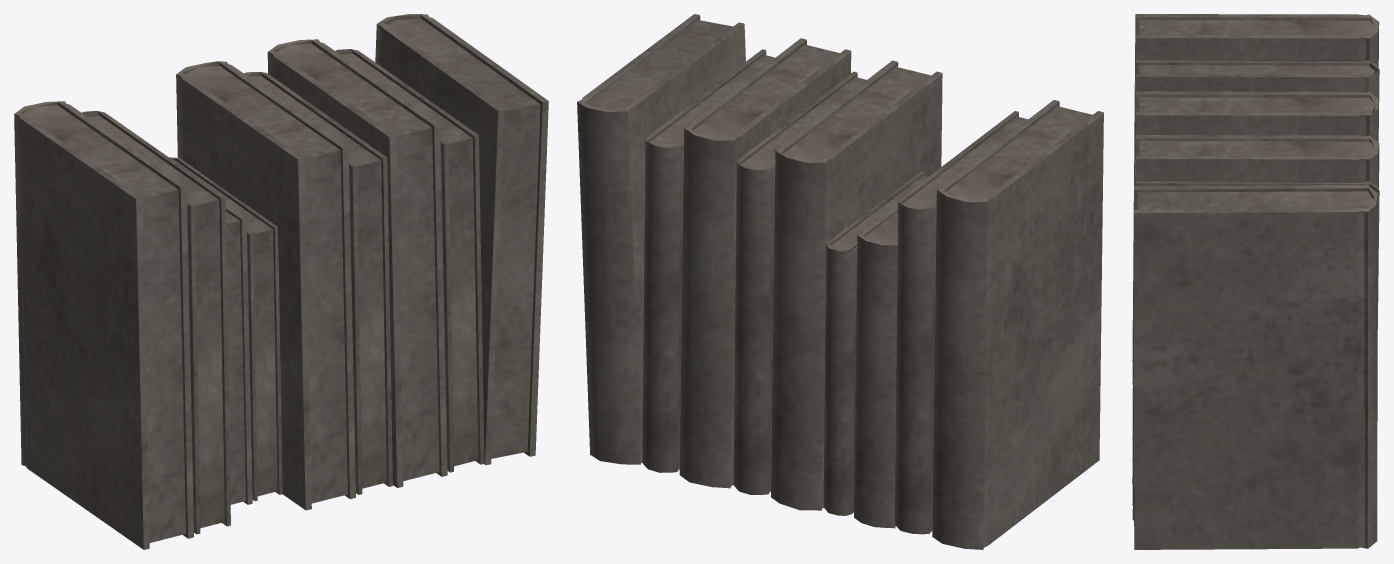
The model's file is SM_Books_A.fbx.
3 renders of one model, left to right at view 1: azimuth 30°, elevation 25°; view 2: azimuth 150°, elevation 25°; view 3: azimuth 270°, elevation 25°, orthographic. The views are drawn at different scales.
Parts seen in each view (by area): view 1: SM_Books_A_LOD0; view 2: SM_Books_A_LOD0; view 3: SM_Books_A_LOD0.
Boxes of the visible parts, x1,y1,x2,y2 form: SM_Books_A_LOD0: (14,14,548,549); SM_Books_A_LOD0: (577,14,1103,549); SM_Books_A_LOD0: (1132,14,1379,549).
Size of the model in its own units: 28.14 by 14.84 by 23.
